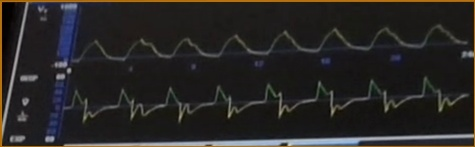Premature_cycling Flow: (68, 73, 469, 131)
Premature_cycling Volume: (75, 15, 468, 64)
